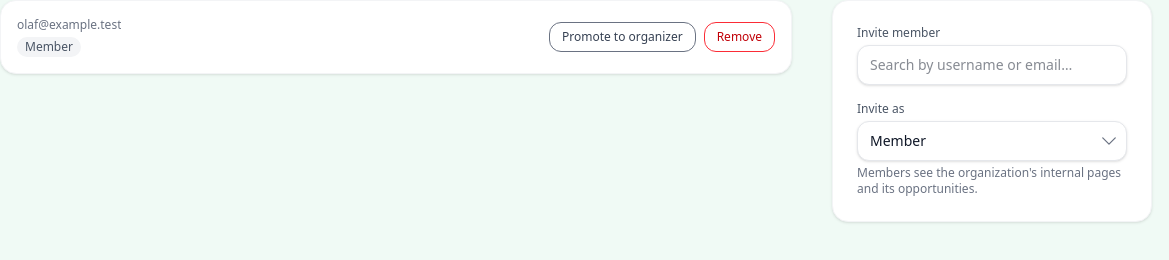
Test case: OrgMembersPage invite search › drops the hint once the query is long enough to search
The width and height of the screenshot is (1169, 260).
Type "vera" into the search field labelled "Invite member".
click(992, 65); type("vera")  # box [857,45,1127,85]
Wait 400 ms
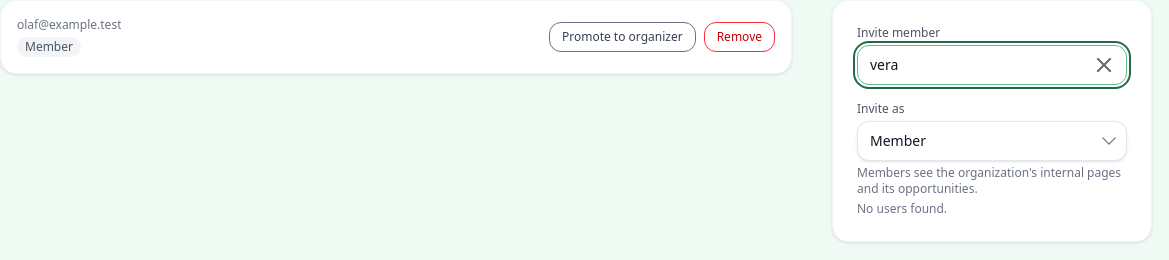
Check: the text "No users found." is shown, box [857,200,947,217]
